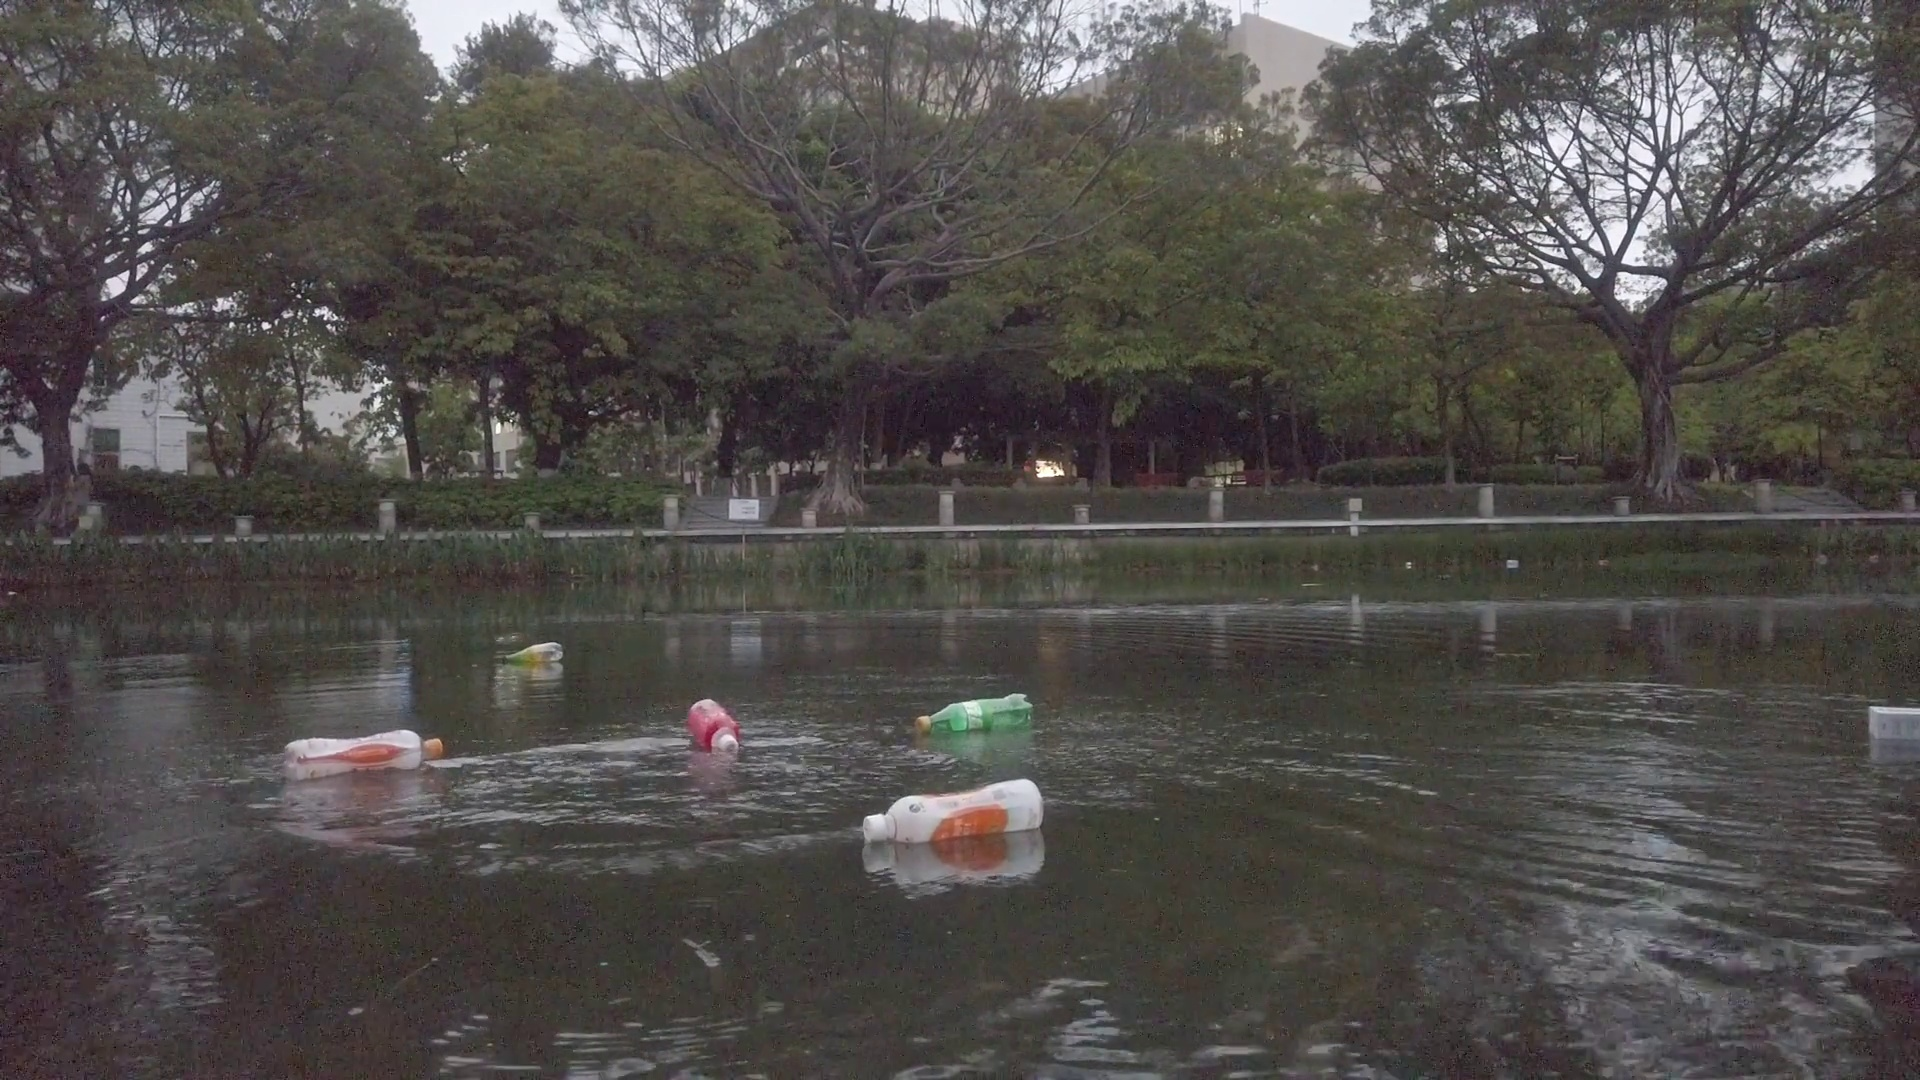bottle: (860, 774, 1044, 844), (284, 732, 447, 782), (916, 694, 1034, 729), (687, 698, 742, 762), (500, 641, 568, 662)
carton: (1869, 702, 1917, 742), (1505, 558, 1519, 568)
